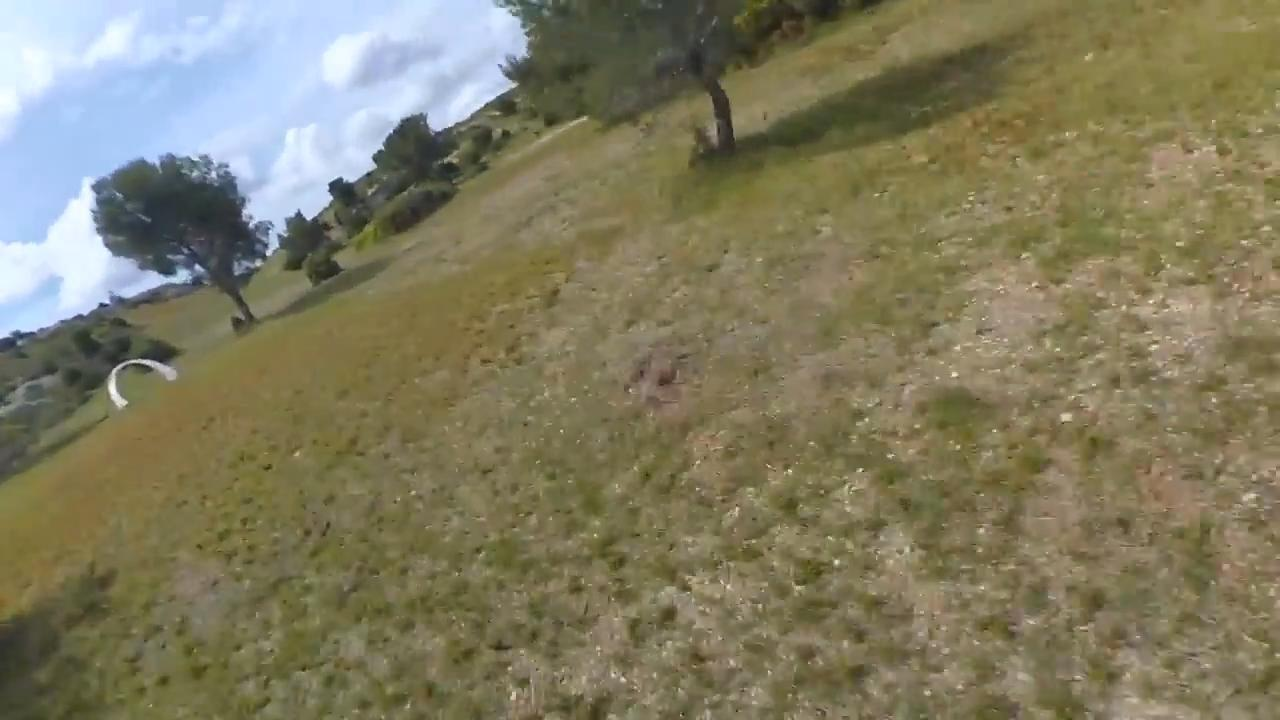gate: (106, 358, 180, 410)
